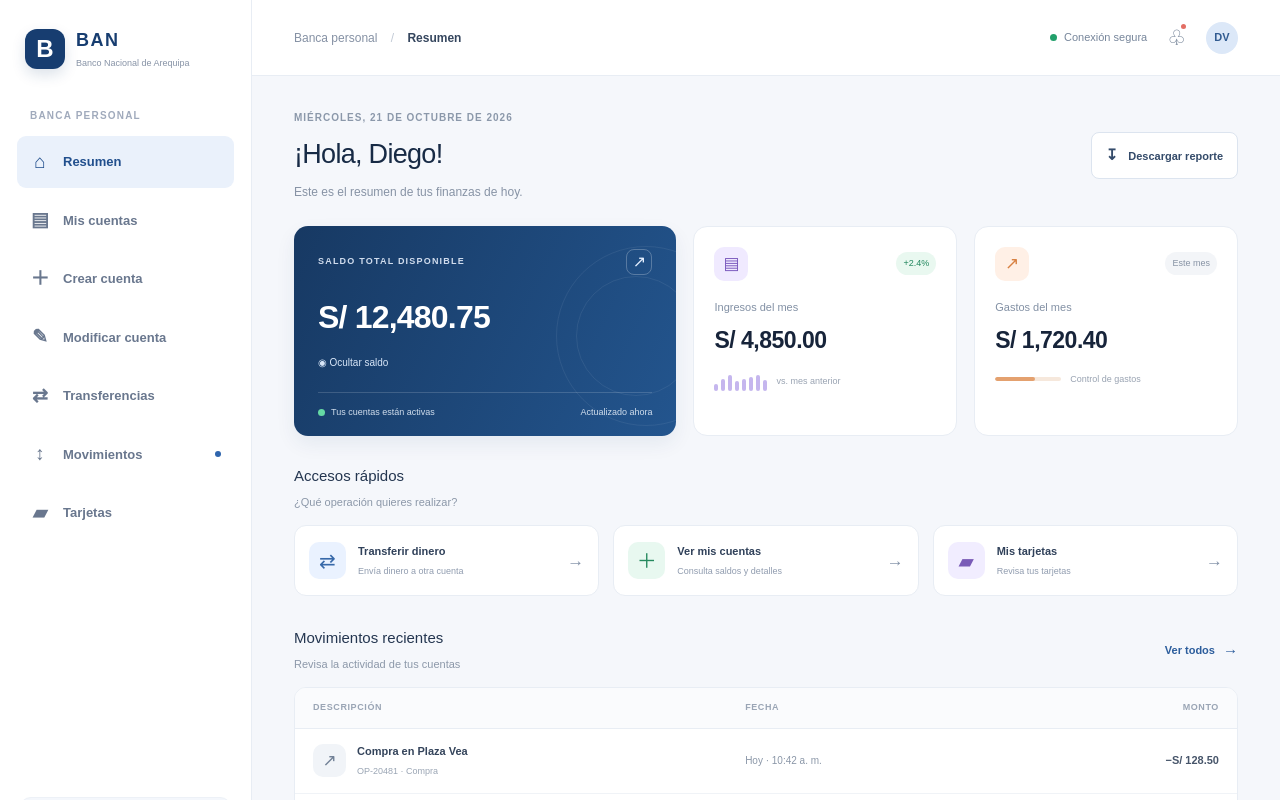
it: Inicio y navegación › CP-04 Navegar a 'Tarjetas' muestra la tarjeta de débito Visa
This screenshot has width=1280, height=800.
Click the button "▰ Tarjetas": click(126, 513) [17,486,234,539]
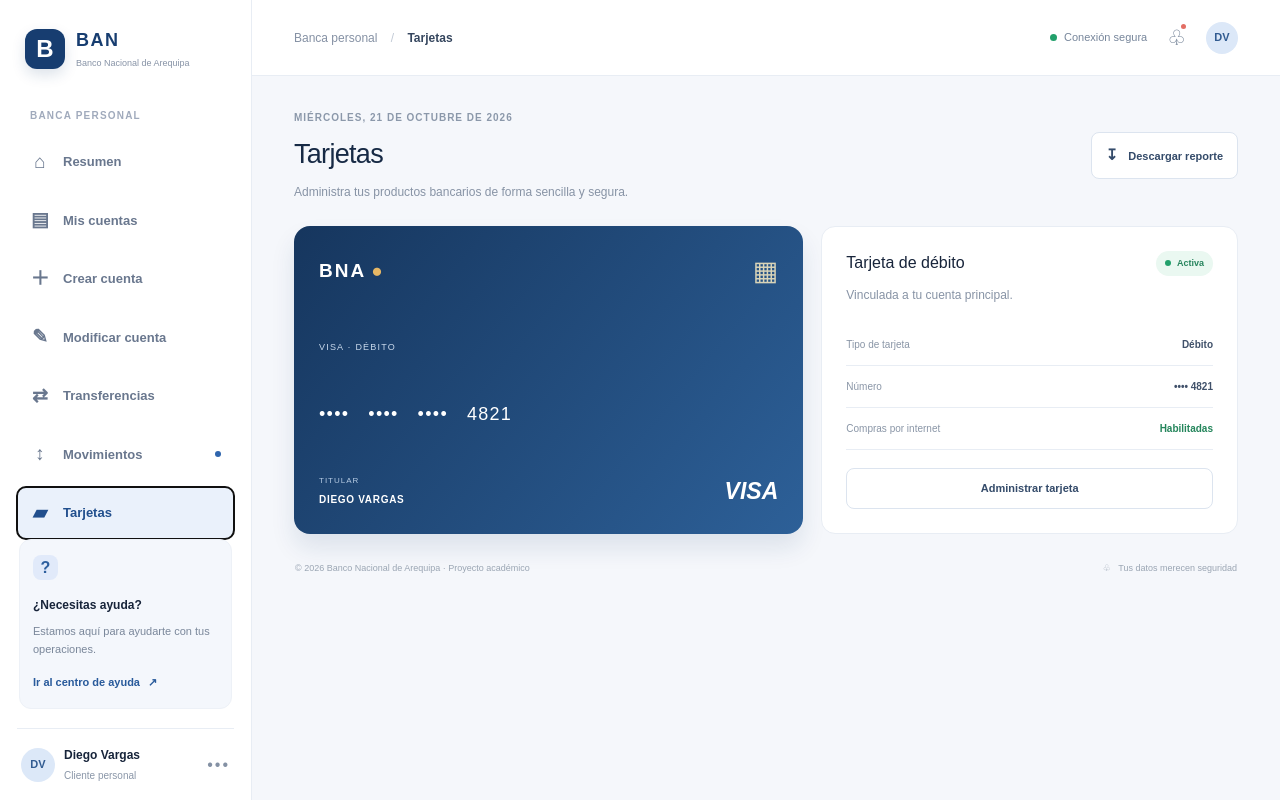
Check: the heading "Tarjeta de débito" is shown, box [846,251,965,275]
Check: the text "DIEGO VARGAS" is shown, box [319,492,404,507]
Check: the text "Habilitadas" is shown, box [1160,421,1213,436]
